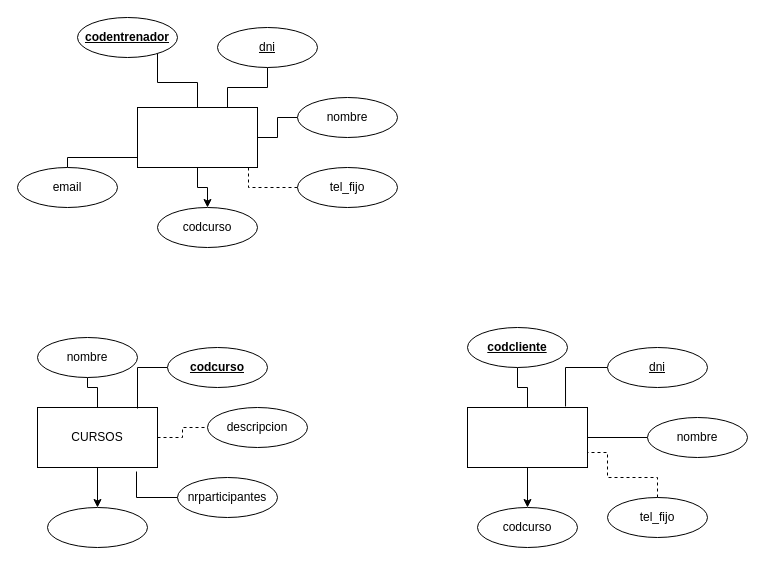
Some shapes in this 765 by 565 pixel diagram are drawn without their labels. Each missing label, with the box of its shape:
CLIENTES: (466, 406, 588, 468)
ENTRENADOR: (136, 106, 258, 168)
tipo: (46, 506, 148, 548)
